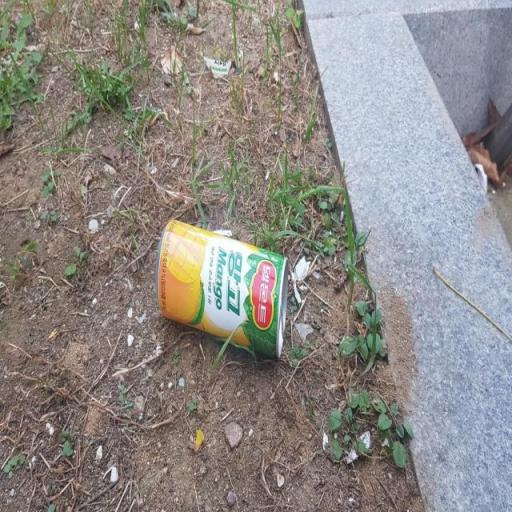metal: (154, 208, 292, 366)
